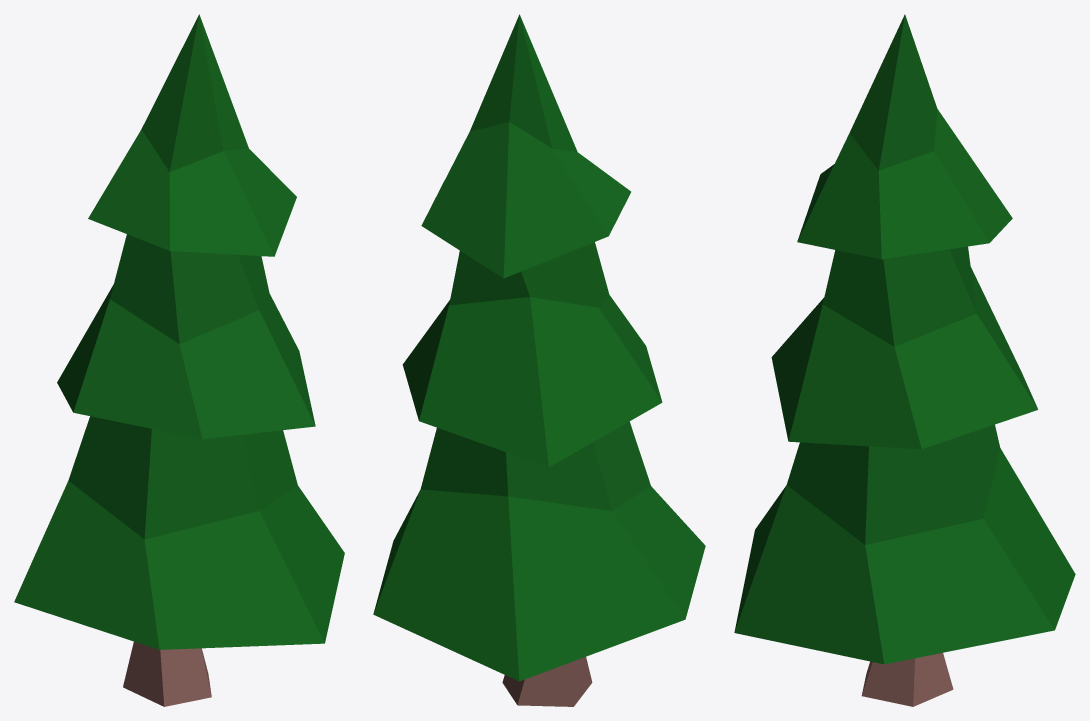
File: arbol pino 1.fbx
The picture shows the model from 3 angles, left to right: view 1: azimuth 30°, elevation 25°; view 2: azimuth 150°, elevation 25°; view 3: azimuth 270°, elevation 25°; orthographic projection. The views are drawn at different scales.
Parts seen in each view (by area): view 1: SpruceTree1; view 2: SpruceTree1; view 3: SpruceTree1.
Part boxes in pixels (x1,y1,x2,y2): SpruceTree1: (14, 14, 344, 706); SpruceTree1: (373, 14, 705, 706); SpruceTree1: (734, 14, 1075, 706).
Bounding box in the file's own units: 12557 × 25719 × 11583.
